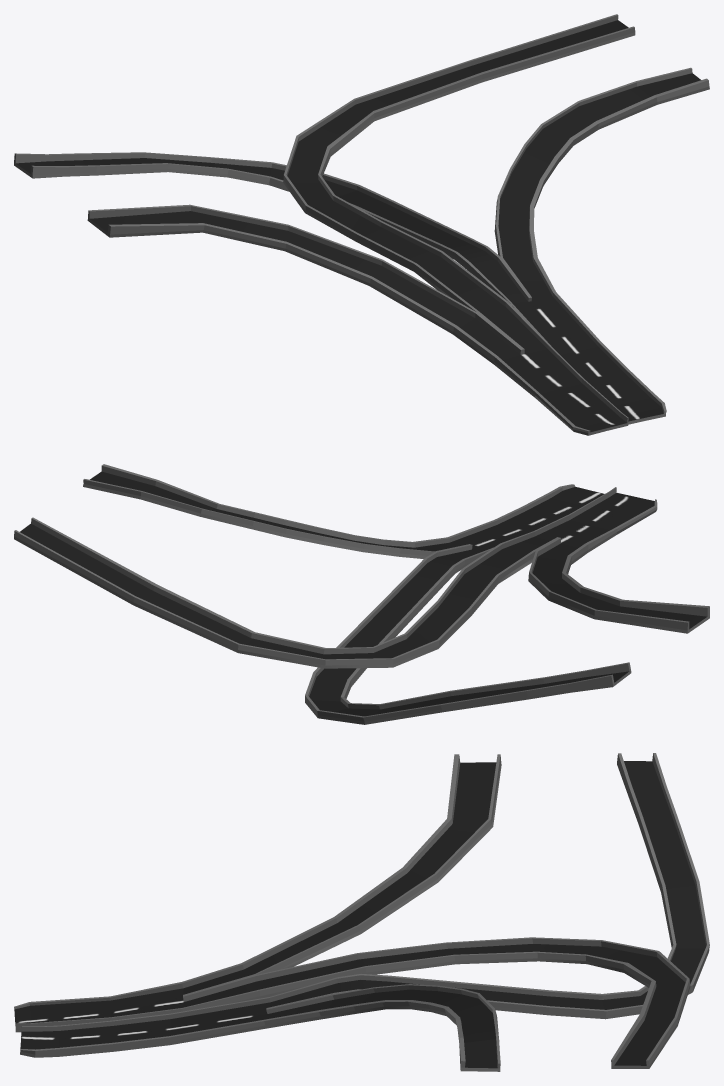
Rendered from highwayOnOff.FBX.
3 renders of one model, top to bottom at view 1: azimuth 30°, elevation 25°; view 2: azimuth 150°, elevation 25°; view 3: azimuth 270°, elevation 25°, orthographic. The views are drawn at different scales.
Visible parts, largest first — view 1: Line003, Line004; view 2: Line003, Line004; view 3: Line003, Line004.
Boxes of the visible parts, left/top/right/bottom form: Line003: left=87, top=14, right=635, bottom=435; Line004: left=14, top=67, right=709, bottom=424; Line003: left=14, top=487, right=709, bottom=668; Line004: left=83, top=464, right=631, bottom=724; Line003: left=14, top=754, right=690, bottom=1068; Line004: left=20, top=753, right=709, bottom=1071.
Size of the model in its own units: 60866 by 11818 by 58605.
